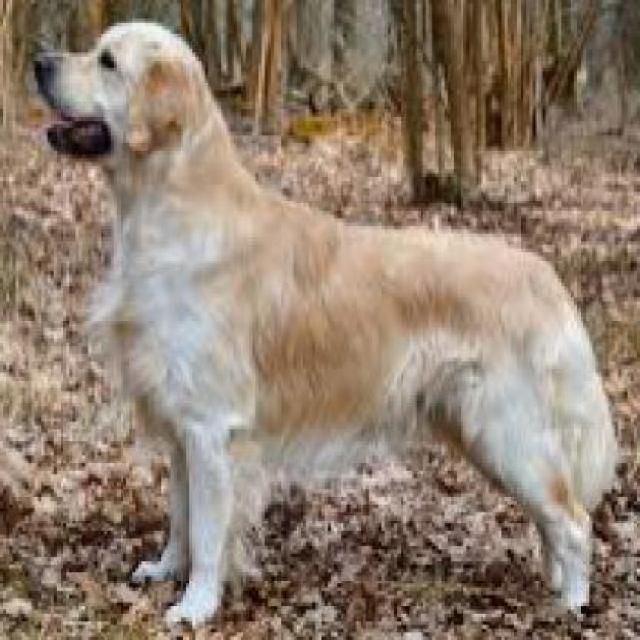Dog: (29, 20, 623, 634)
